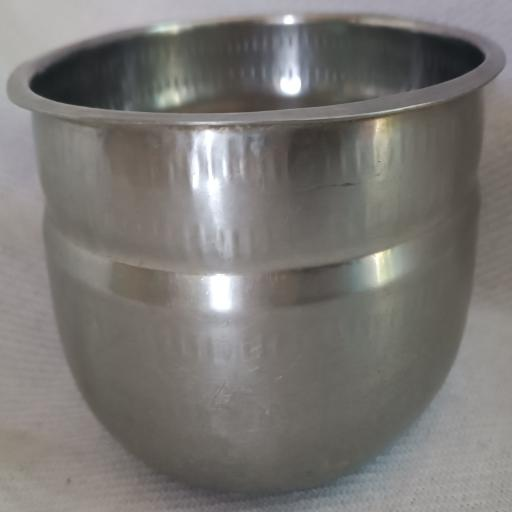vessel: (8, 15, 504, 491)
